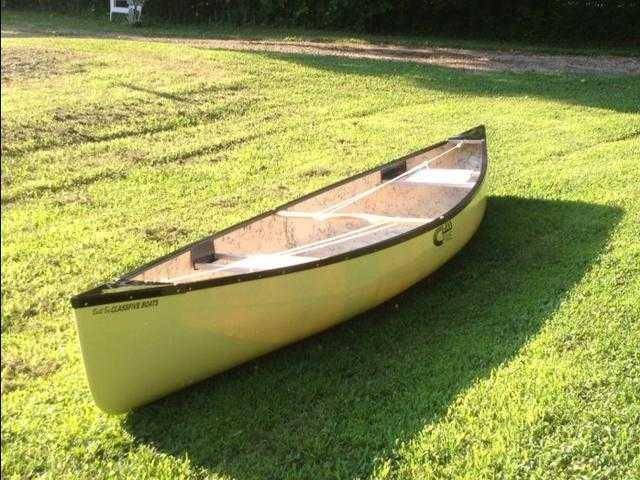kayak: (69, 124, 491, 415)
